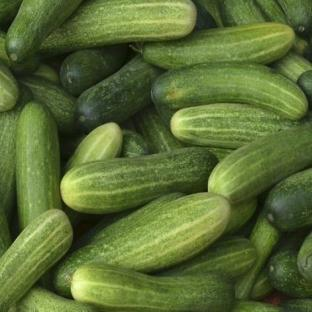Cucumber: (54, 193, 230, 296), (61, 148, 217, 214), (152, 62, 308, 120), (41, 0, 196, 54), (208, 123, 311, 202), (71, 264, 233, 311), (0, 210, 72, 311), (142, 23, 294, 69), (75, 56, 162, 132), (16, 102, 62, 230), (171, 103, 298, 149), (6, 0, 82, 63), (0, 84, 33, 218), (157, 237, 257, 279), (235, 213, 280, 298), (60, 45, 127, 95), (20, 76, 76, 135), (264, 168, 311, 231), (65, 123, 122, 171), (74, 209, 136, 249), (134, 106, 184, 153), (9, 286, 98, 311), (268, 251, 311, 298), (0, 31, 40, 74), (224, 199, 257, 235), (272, 52, 311, 82), (236, 196, 262, 238), (0, 62, 18, 112), (274, 229, 310, 253), (273, 230, 307, 253), (250, 267, 273, 300), (120, 130, 148, 157), (59, 134, 86, 159), (193, 1, 217, 29), (154, 103, 177, 129), (298, 234, 311, 280), (231, 300, 282, 311), (297, 70, 311, 107), (0, 211, 11, 258), (34, 64, 60, 83), (293, 34, 311, 60), (208, 148, 234, 162), (281, 299, 311, 311), (120, 117, 136, 132)
